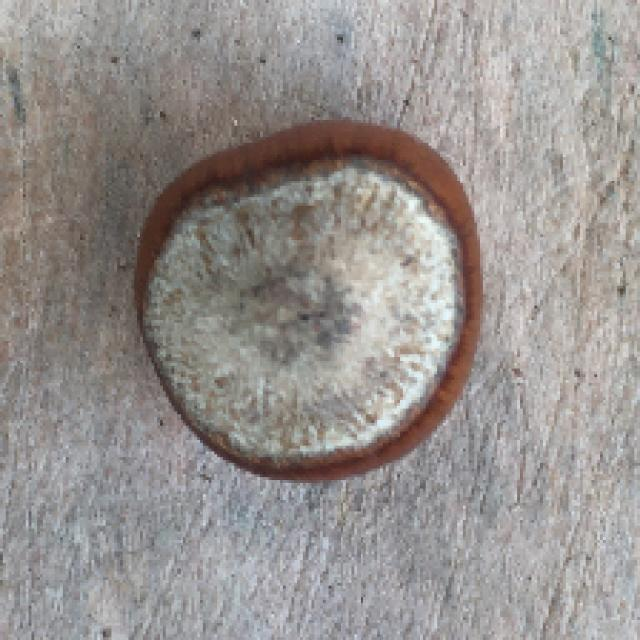QualityHazelnut: (134, 118, 488, 487)
